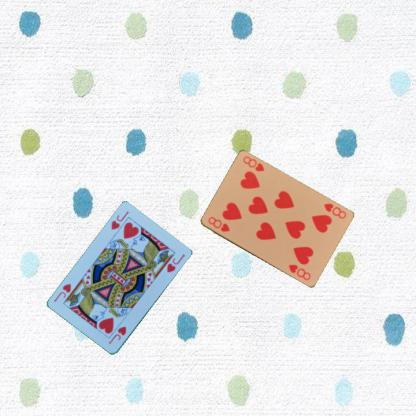8h: (205, 214, 231, 233), (321, 201, 347, 220)
Jh: (106, 324, 128, 346), (109, 209, 130, 231)
